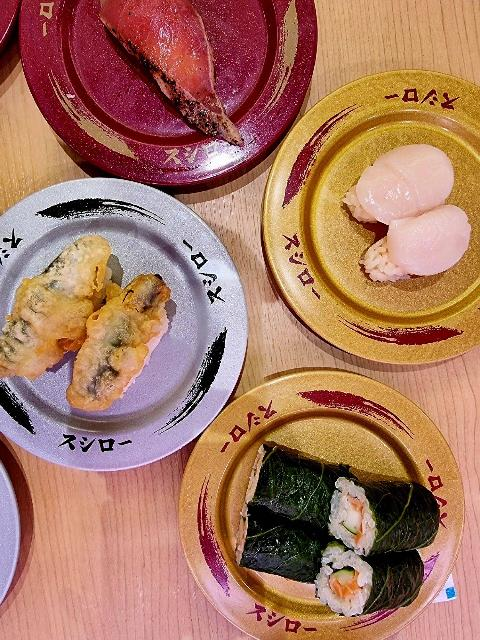jangold: (267, 370, 480, 480), (258, 279, 480, 370), (260, 122, 352, 285), (331, 76, 480, 154), (177, 441, 243, 603), (239, 577, 323, 640)
janwhite: (0, 169, 218, 262), (178, 199, 252, 422), (0, 415, 205, 475), (0, 446, 42, 637)
